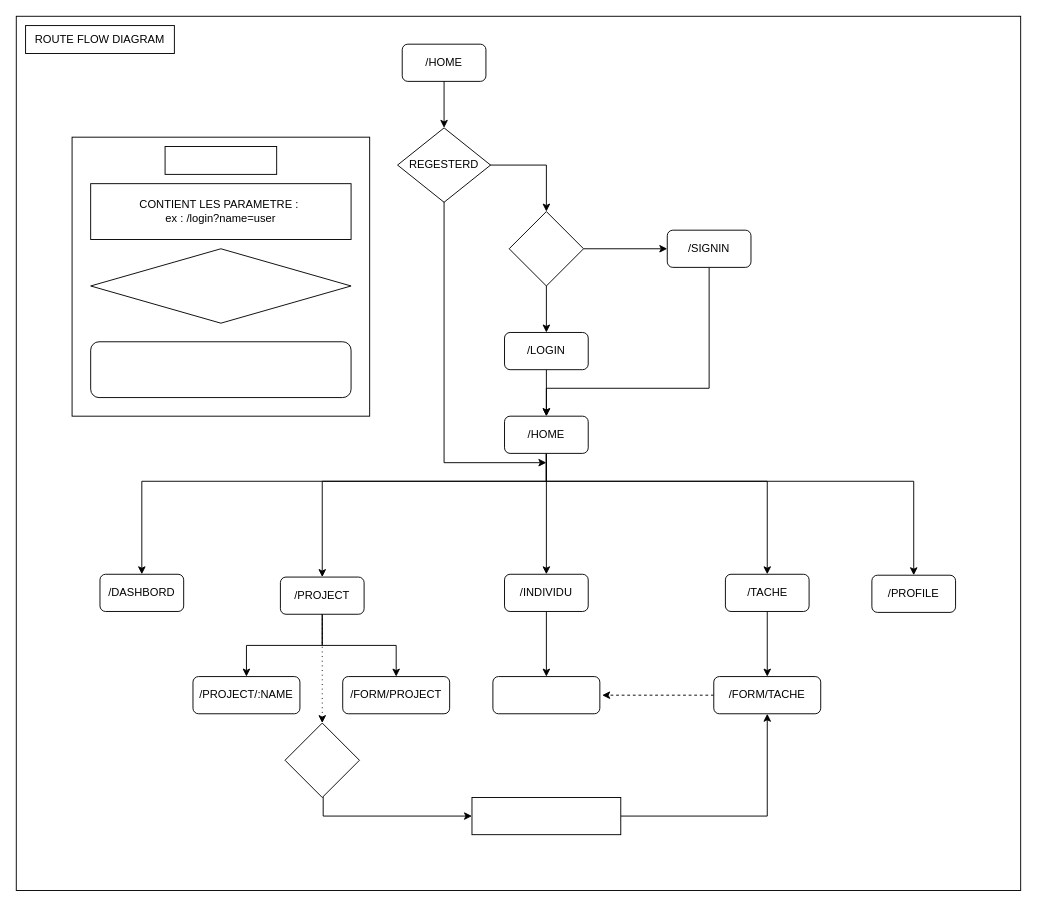
Some shapes in this 1037 by 907 pixel diagram are drawn without their labels. The shapes that lost their labels are listed below. From the top down, each one's box as (x1, y1, x2, y2) in pixels, then its label:
(164, 146, 277, 174): INFO
(508, 211, 584, 286): Have account
(90, 248, 351, 323): CONDITION : Right = False; Botton=True
(90, 341, 351, 398): ROUTE
(492, 676, 600, 714): /FORM/INDIVIDU
(284, 722, 359, 797): ADD TACHE
(471, 797, 621, 835): Params : Project Name
